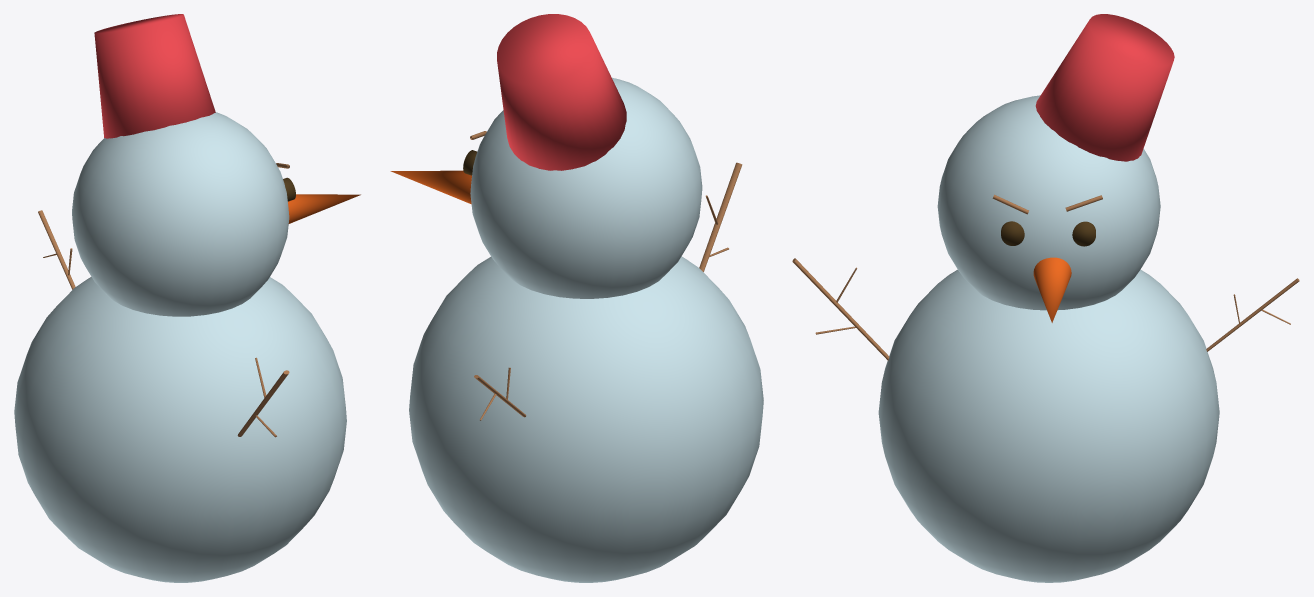
File: yukidaruma.fbx
3 views of the same model, side by side, from view 1: azimuth 30°, elevation 25°; view 2: azimuth 150°, elevation 25°; view 3: azimuth 270°, elevation 25° (orthographic). The views are drawn at different scales.
Parts seen in each view (by area): view 1: 球.001, 円柱, 円錐, te.001, te; view 2: 球.001, 円柱, 円錐, te.001; view 3: 球.001, 円柱, 円錐, te.001.
Boxes of the visible parts, bbox=[...] form: 球.001: bbox=[14, 112, 346, 582]; 円柱: bbox=[94, 14, 215, 138]; 円錐: bbox=[288, 194, 360, 223]; te.001: bbox=[237, 357, 289, 437]; te: bbox=[38, 210, 75, 289]; 球.001: bbox=[409, 77, 763, 582]; 円柱: bbox=[497, 14, 626, 170]; 円錐: bbox=[390, 170, 471, 204]; te.001: bbox=[699, 162, 742, 271]; 球.001: bbox=[878, 95, 1219, 582]; 円柱: bbox=[1035, 14, 1174, 161]; 円錐: bbox=[1033, 257, 1071, 322]; te.001: bbox=[792, 258, 889, 360].
Bounding box in the file's own units: 346 × 538 × 455.
